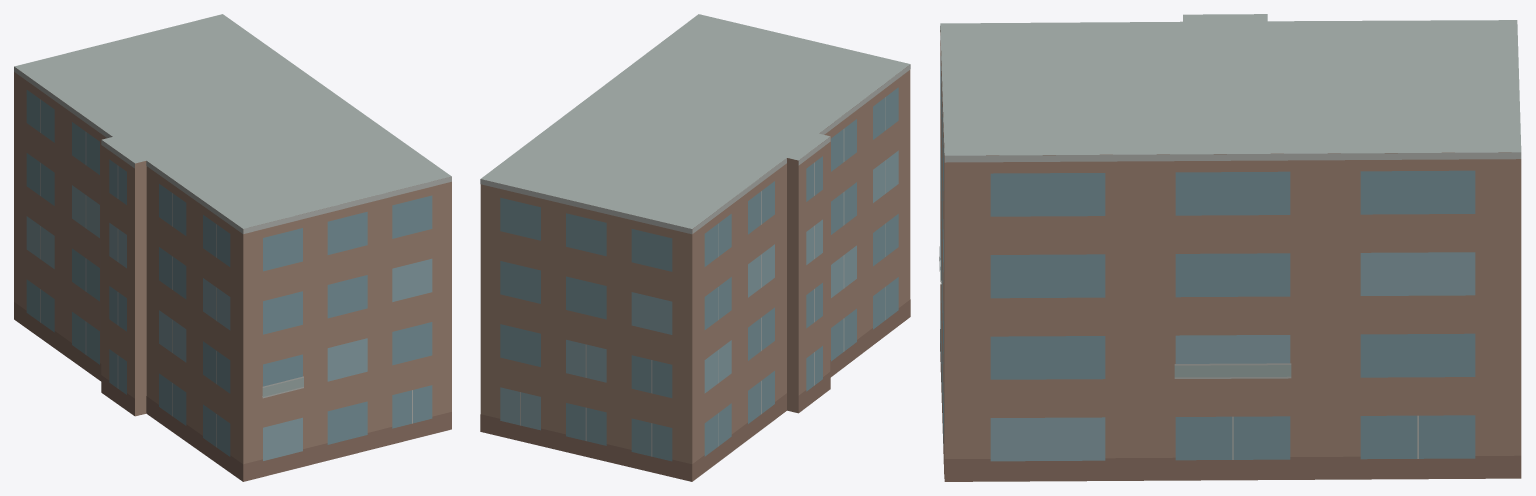
Rendered from survey-upis-32606368.glb.
The picture shows the model from 3 angles, left to right: view 1: azimuth 30°, elevation 25°; view 2: azimuth 150°, elevation 25°; view 3: azimuth 270°, elevation 25°; orthographic projection. The views are drawn at different scales.
Parts seen in each view (by area): view 1: survey-upis-32606368.tmp; view 2: survey-upis-32606368.tmp; view 3: survey-upis-32606368.tmp.
Part boxes in pixels (left/top/right/bottom): survey-upis-32606368.tmp: left=14, top=14, right=451, bottom=481; survey-upis-32606368.tmp: left=480, top=14, right=910, bottom=481; survey-upis-32606368.tmp: left=939, top=14, right=1521, bottom=481.
Bounding box in the file's own units: 10.91 × 11.7 × 18.92.
